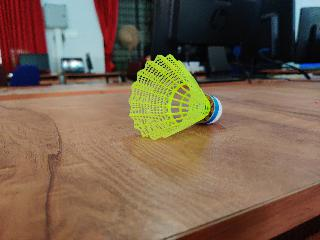shuttlecock: (127, 54, 221, 140)
